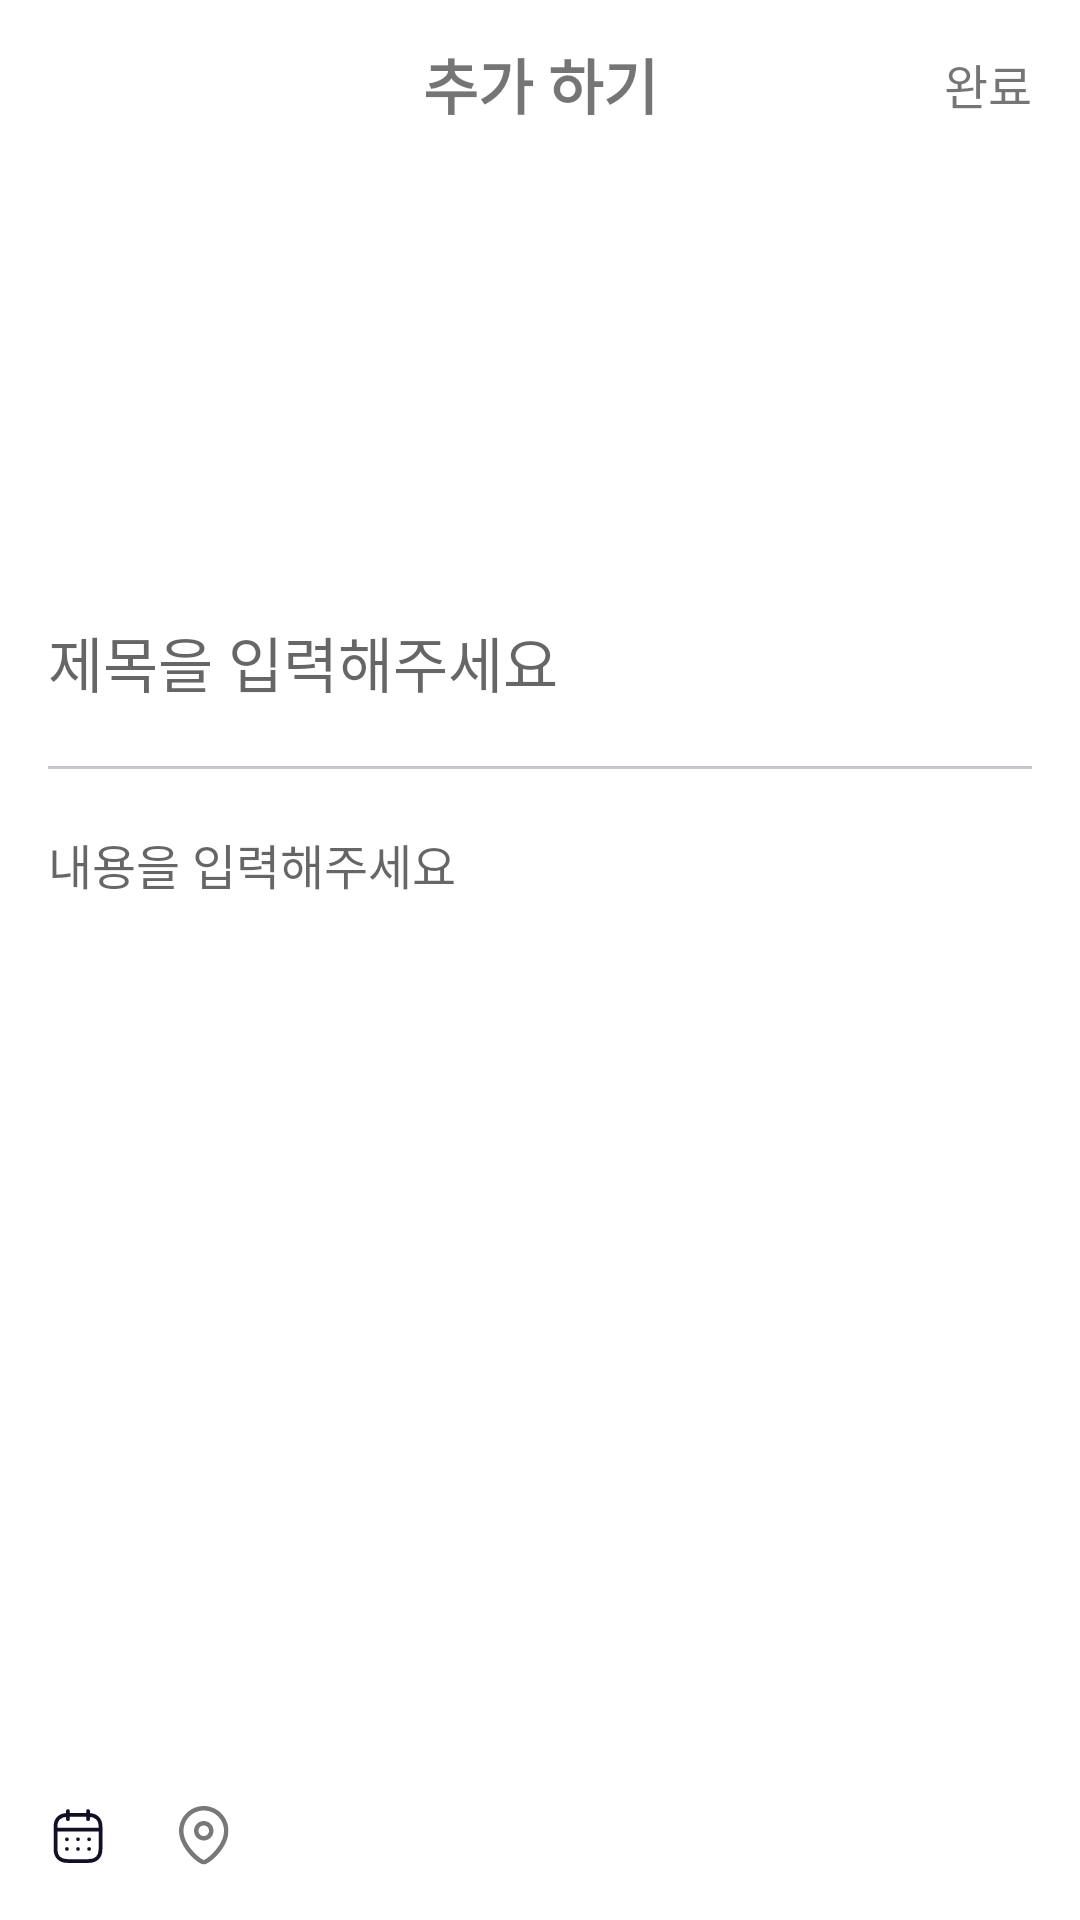

Icons on this 1080px×1920px Android screen, each with its box as (x1, y1, x2, y2):
calender: (53, 1809, 103, 1863)
location: (179, 1806, 229, 1865)
